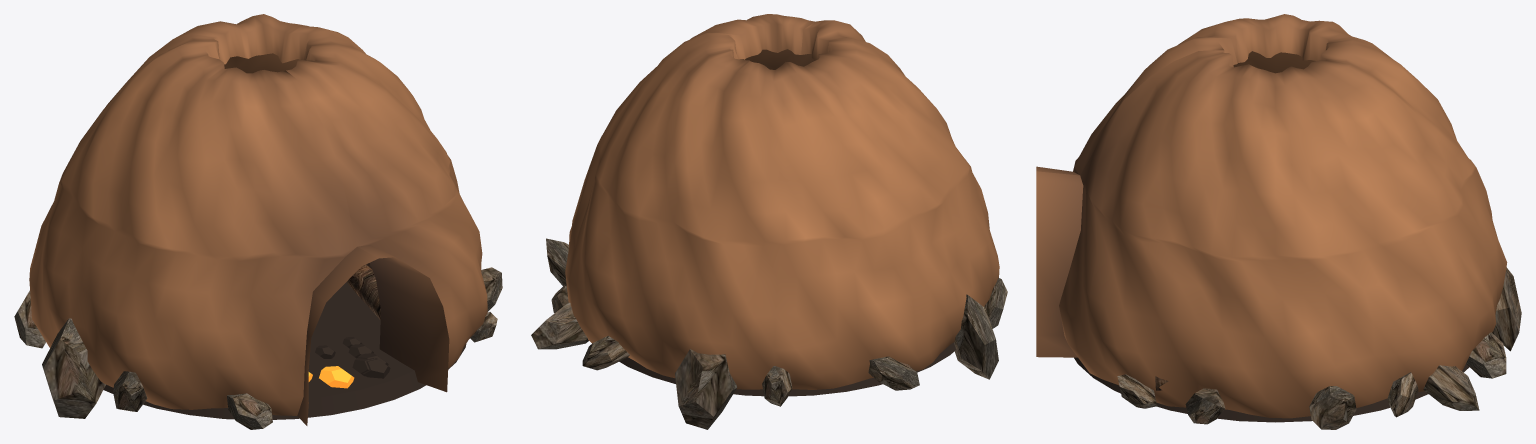
The model's file is kiln.glb.
The picture shows the model from 3 angles, left to right: view 1: azimuth 30°, elevation 25°; view 2: azimuth 150°, elevation 25°; view 3: azimuth 270°, elevation 25°; orthographic projection. The views are drawn at different scales.
Visible parts, largest first — view 1: part_0, part_1, part_2, part_4, part_3; view 2: part_0, part_2, part_1; view 3: part_0, part_2, part_1.
Boxes of the visible parts, x1,y1,x2,y2 form: part_0: [29, 14, 487, 425]; part_1: [103, 282, 466, 419]; part_2: [14, 267, 502, 429]; part_4: [346, 263, 380, 319]; part_3: [308, 366, 354, 388]; part_0: [565, 14, 999, 389]; part_2: [531, 238, 1007, 429]; part_1: [619, 342, 955, 396]; part_0: [1036, 14, 1507, 418]; part_2: [1117, 267, 1521, 429]; part_1: [1074, 357, 1469, 422].
Bounding box in the file's own units: 1.12 × 0.7533 × 1.05.
5 materials, 2 textured.
